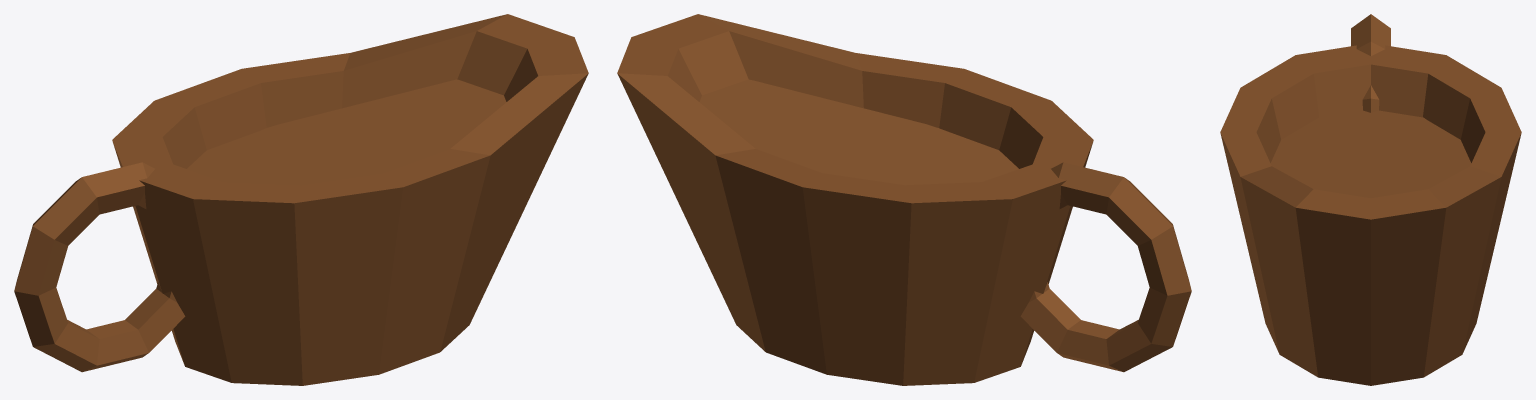
File: sauce_whole.glb
3 views of the same model, side by side, from view 1: azimuth 30°, elevation 25°; view 2: azimuth 150°, elevation 25°; view 3: azimuth 270°, elevation 25° (orthographic). The views are drawn at different scales.
Parts seen in each view (by area): view 1: sauce_whole_0; view 2: sauce_whole_0; view 3: sauce_whole_0.
Part boxes in pixels (x1,y1,x2,y2): sauce_whole_0: (14, 14, 588, 385); sauce_whole_0: (617, 14, 1191, 385); sauce_whole_0: (1220, 14, 1521, 385).
Bounding box in the file's own units: 0.2 × 0.08 × 0.1.
